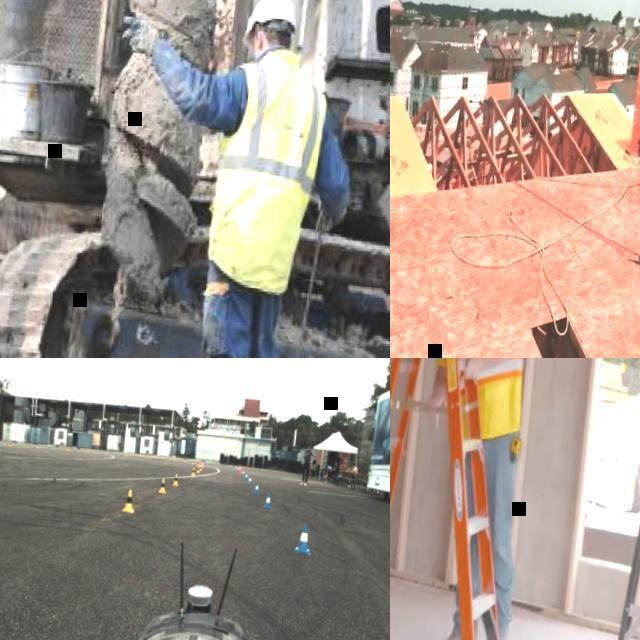Weapon: (102, 8, 384, 337)
